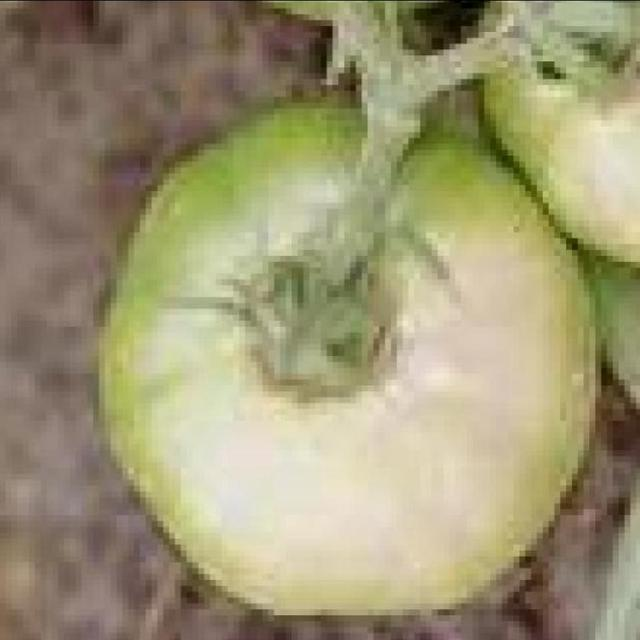Sunscald Fruit: (70, 101, 389, 252)
